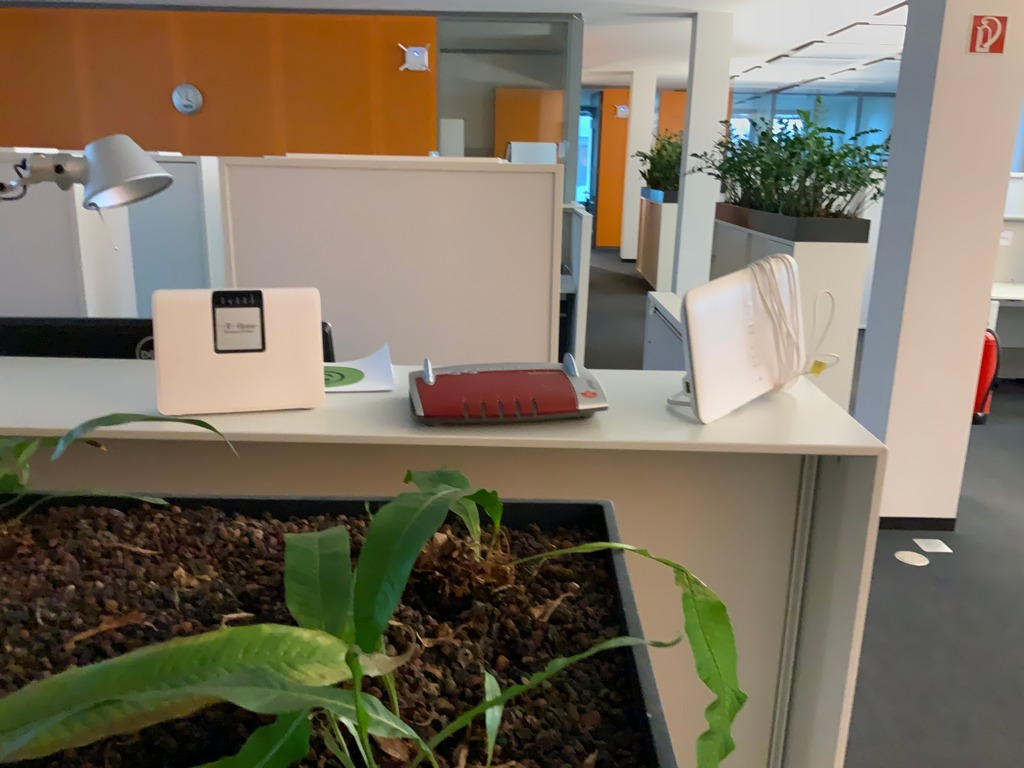Router2: (151, 289, 328, 416)
router: (665, 255, 802, 429)
router3: (408, 355, 607, 428)
